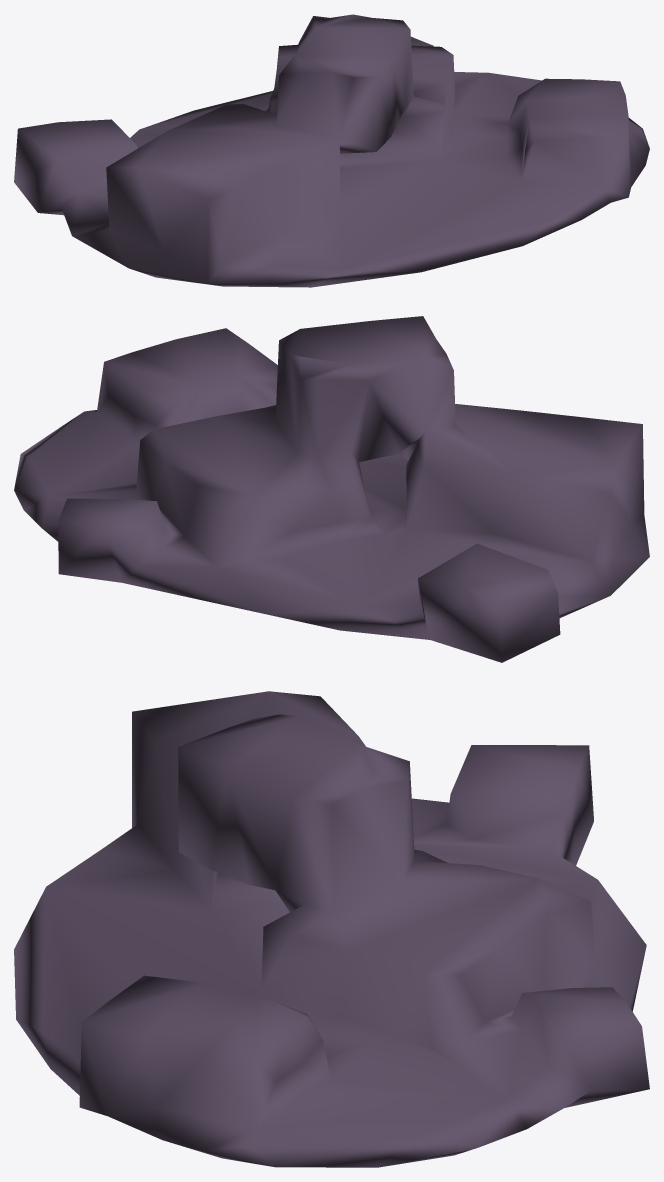
Rendered from rubble.glb.
The picture shows the model from 3 angles, top to bottom: view 1: azimuth 30°, elevation 25°; view 2: azimuth 150°, elevation 25°; view 3: azimuth 270°, elevation 25°; orthographic projection. The views are drawn at different scales.
Parts seen in each view (by area): view 1: rubble; view 2: rubble; view 3: rubble.
Boxes of the visible parts, x1,y1,x2,y2 form: rubble: (14, 14, 649, 287); rubble: (14, 316, 649, 662); rubble: (14, 691, 649, 1167).
Bounding box in the file's own units: 1.39 × 0.423 × 0.9991.
